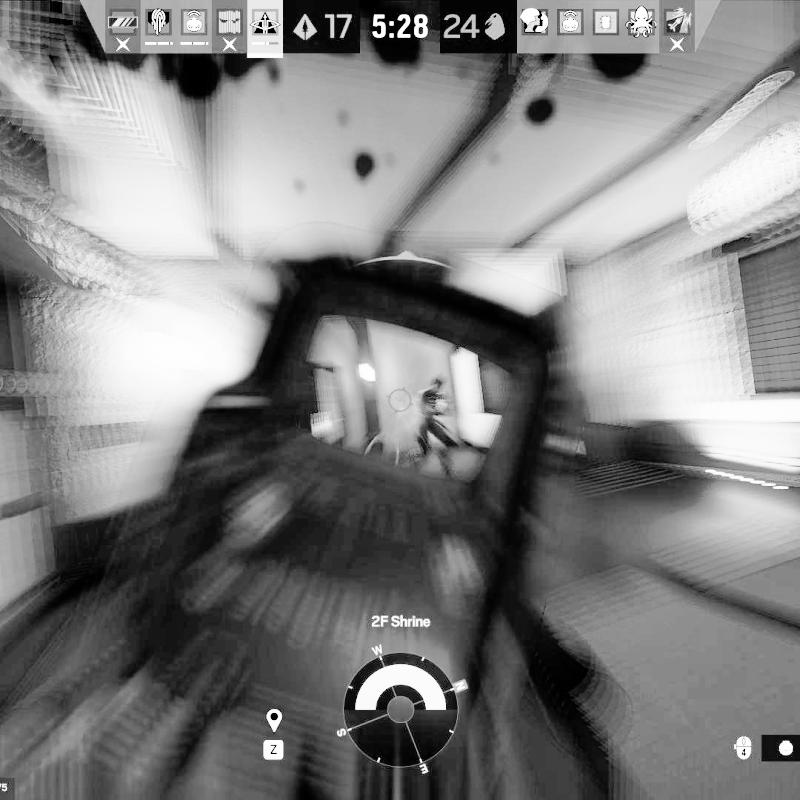Character: (410, 374, 458, 477)
Head: (430, 376, 444, 390)
